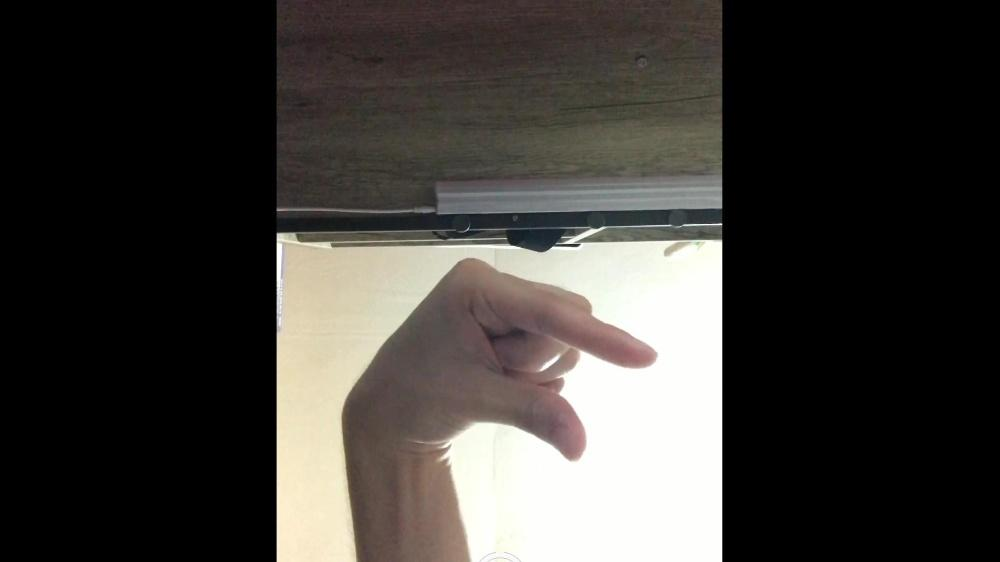q: (372, 257, 655, 457)
